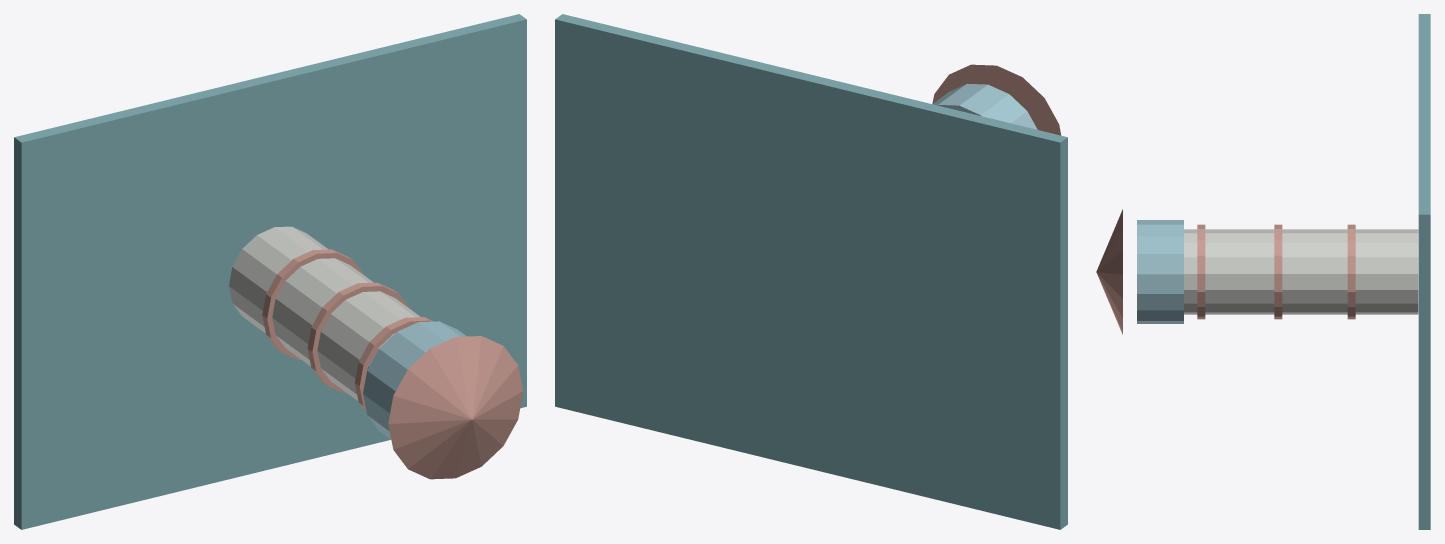
The picture shows the model from 3 angles, left to right: view 1: azimuth 30°, elevation 25°; view 2: azimuth 150°, elevation 25°; view 3: azimuth 270°, elevation 25°; orthographic projection. The views are drawn at different scales.
Visible parts, largest first — view 1: section_00, section_06, section_01, section_05, section_03, section_02, section_04; view 2: section_00, section_06, section_05; view 3: section_01, section_00, section_05, section_06, section_02, section_03, section_04.
Boxes of the visible parts, x1=… form: section_00: x1=14, y1=14, x2=526, y2=529; section_06: x1=388, y1=336, x2=523, y2=479; section_01: x1=229, y1=226, x2=420, y2=400; section_05: x1=363, y1=321, x2=466, y2=439; section_03: x1=307, y1=282, x2=409, y2=393; section_02: x1=262, y1=249, x2=364, y2=359; section_04: x1=354, y1=317, x2=433, y2=412; section_00: x1=555, y1=14, x2=1067, y2=529; section_06: x1=932, y1=64, x2=1061, y2=135; section_05: x1=932, y1=83, x2=1037, y2=129; section_01: x1=1184, y1=229, x2=1418, y2=314; section_00: x1=1418, y1=14, x2=1430, y2=529; section_05: x1=1137, y1=220, x2=1183, y2=323; section_06: x1=1096, y1=209, x2=1122, y2=334; section_02: x1=1347, y1=224, x2=1355, y2=319; section_03: x1=1274, y1=224, x2=1282, y2=319; section_04: x1=1197, y1=224, x2=1205, y2=319.
Bounding box in the file's own units: 7.1 × 5.2 × 5.
